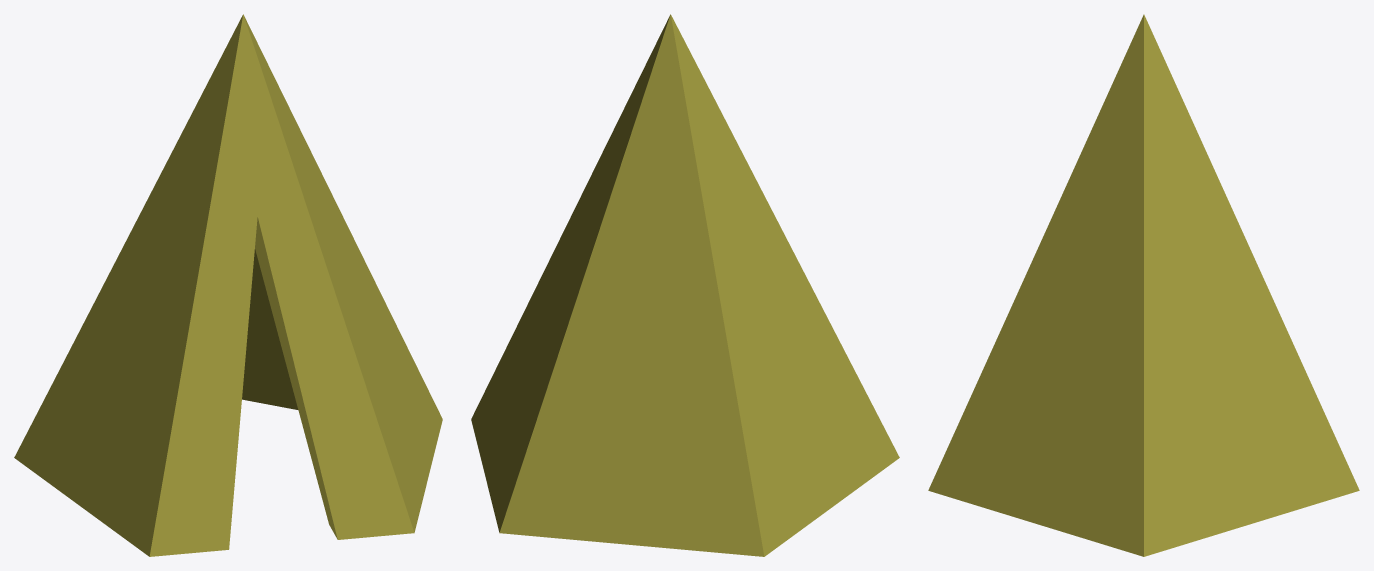
Rendered from SM_Item_Wargames_Piece_12.fbx.
3 views of the same model, side by side, from view 1: azimuth 30°, elevation 25°; view 2: azimuth 150°, elevation 25°; view 3: azimuth 270°, elevation 25° (orthographic).
Parts seen in each view (by area): view 1: SM_Item_Wargames_Piece_12; view 2: SM_Item_Wargames_Piece_12; view 3: SM_Item_Wargames_Piece_12.
Boxes of the visible parts, x1,y1,x2,y2 form: SM_Item_Wargames_Piece_12: (14,14,442,556); SM_Item_Wargames_Piece_12: (471,14,899,556); SM_Item_Wargames_Piece_12: (928,14,1359,556).
Bounding box in the file's own units: 0.1309 × 0.1573 × 0.1377.
1 material, 1 textured.
